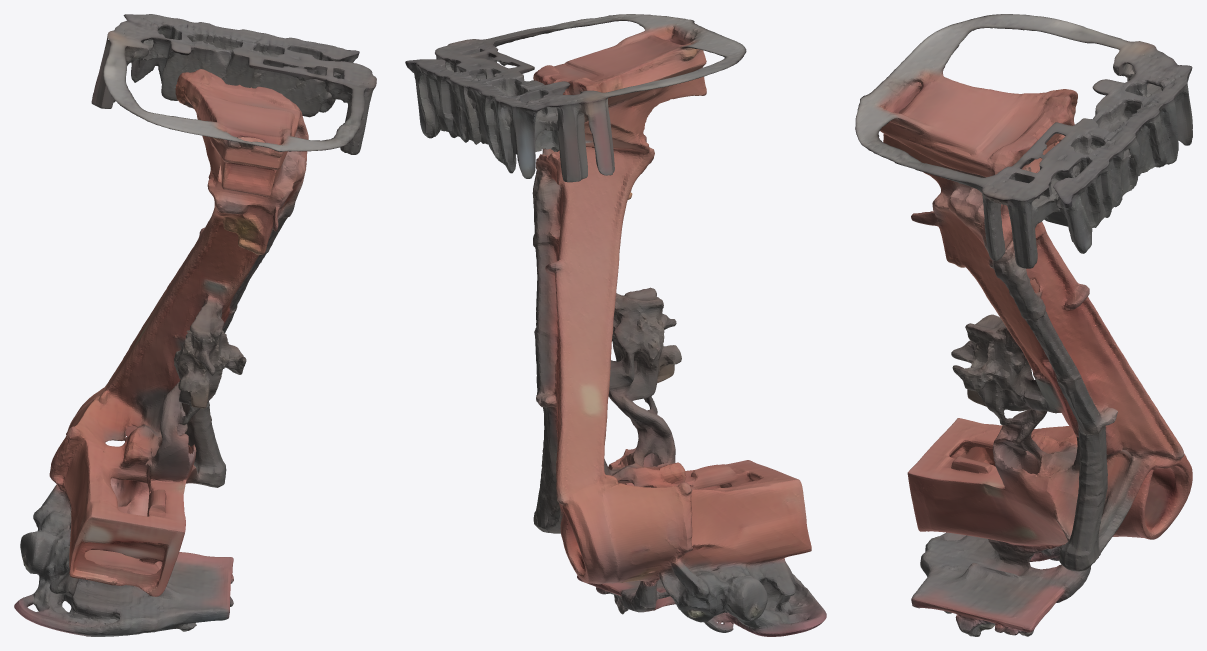
Rendered from robot-v3.glb.
The picture shows the model from 3 angles, left to right: view 1: azimuth 30°, elevation 25°; view 2: azimuth 150°, elevation 25°; view 3: azimuth 270°, elevation 25°; orthographic projection. The views are drawn at different scales.
Visible parts, largest first — view 1: geometry_0; view 2: geometry_0; view 3: geometry_0.
Part boxes in pixels (x1,y1,x2,y2): geometry_0: [14, 14, 376, 636]; geometry_0: [405, 14, 826, 636]; geometry_0: [855, 14, 1192, 636].
Size of the model in its own units: 2.18 by 3.04 by 1.6.
